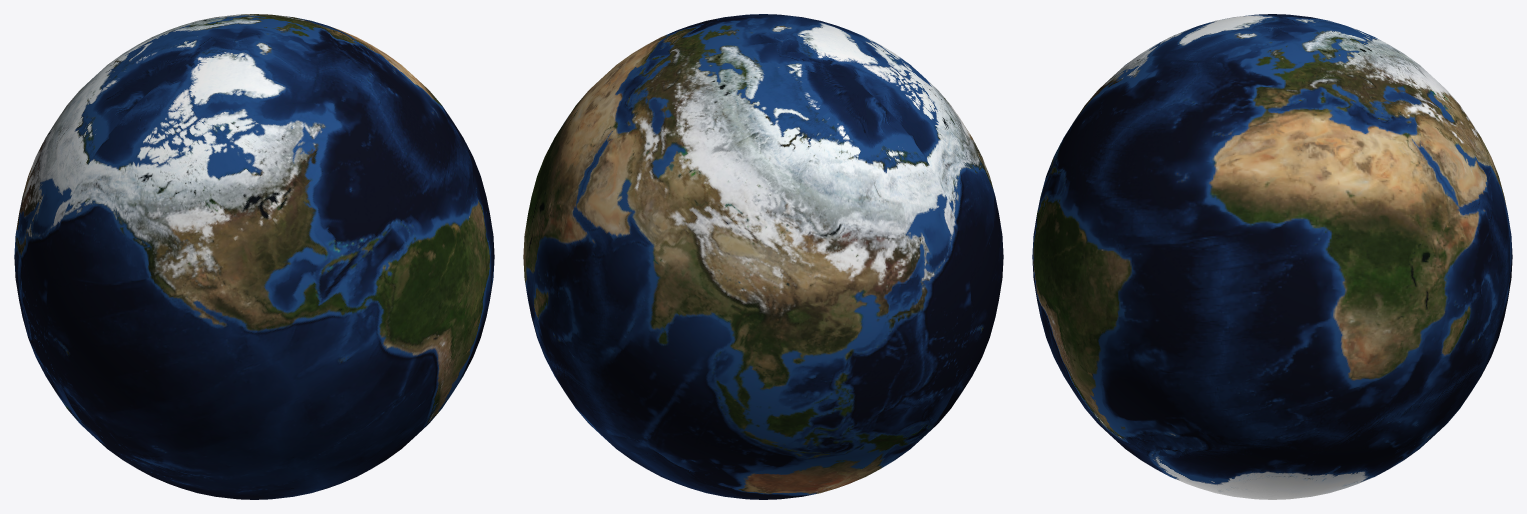
File: globe2.obj
3 views of the same model, side by side, from view 1: azimuth 30°, elevation 25°; view 2: azimuth 150°, elevation 25°; view 3: azimuth 270°, elevation 25° (orthographic).
Parts seen in each view (by area): view 1: Sphere; view 2: Sphere; view 3: Sphere.
Boxes of the visible parts, left/top/right/bottom form: Sphere: left=14, top=14, right=494, bottom=499; Sphere: left=523, top=14, right=1003, bottom=499; Sphere: left=1032, top=14, right=1512, bottom=499.
Bounding box in the file's own units: 1.96 × 2 × 1.96.
